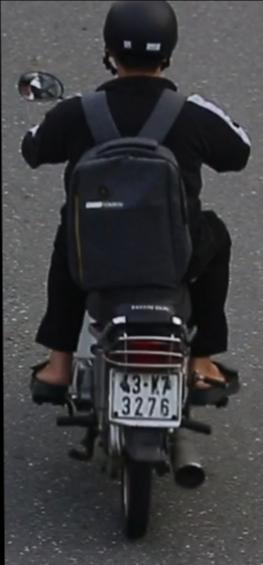LP: (104, 364, 184, 428)
helmet: (95, 0, 183, 89)
